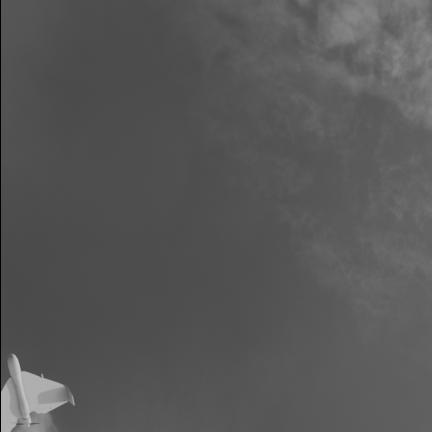Shahed: (1, 354, 74, 431)
